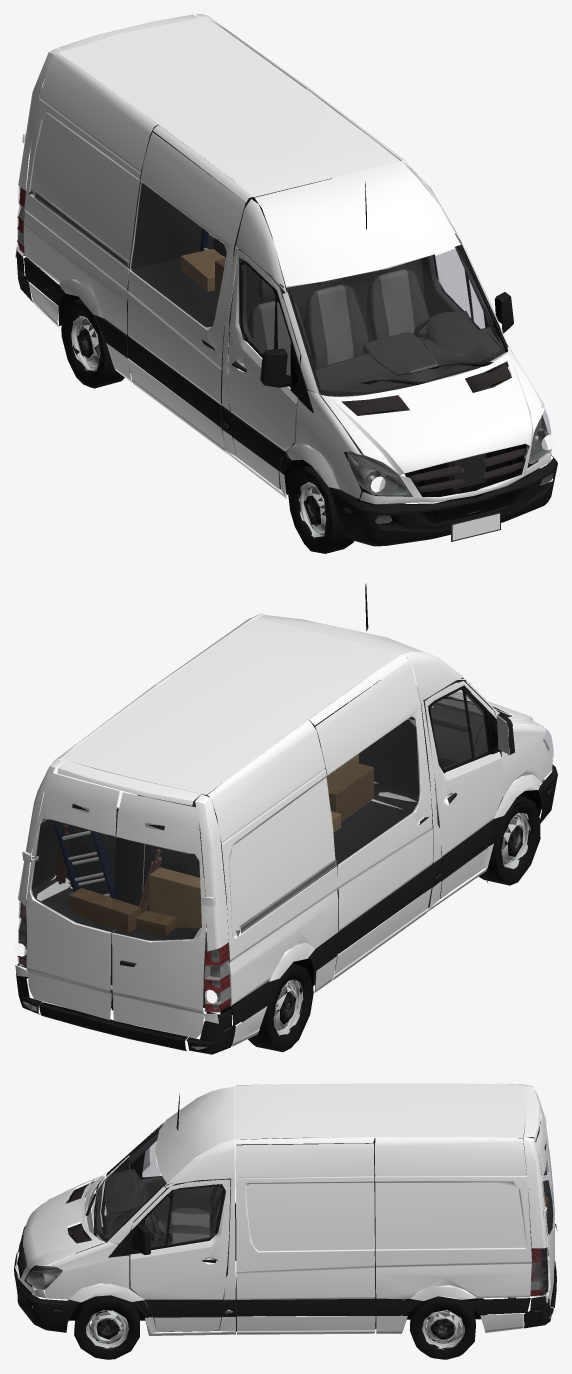
The model's file is van.glb.
The picture shows the model from 3 angles, top to bottom: view 1: azimuth 30°, elevation 25°; view 2: azimuth 150°, elevation 25°; view 3: azimuth 270°, elevation 25°; orthographic projection. The views are drawn at different scales.
Parts seen in each view (by area): view 1: body, wheel_fr, wheel_rr, decal:plateF; view 2: body, wheel_rr, wheel_fr; view 3: body, wheel_fl, wheel_rl.
Part boxes in pixels (x1,y1,x2,y2): body: (15, 14, 557, 546); wheel_fr: (288, 465, 356, 553); wheel_rr: (61, 299, 124, 388); decal:plateF: (452, 513, 499, 540); body: (15, 583, 557, 1054); wheel_rr: (241, 963, 313, 1052); wheel_fr: (478, 796, 540, 885); body: (14, 1083, 557, 1335); wheel_fl: (74, 1295, 139, 1359); wheel_rl: (410, 1296, 475, 1359).
Bounding box in the file's own units: 2.33 × 2.76 × 5.93.
Materials: 9 (3 with a texture image).
